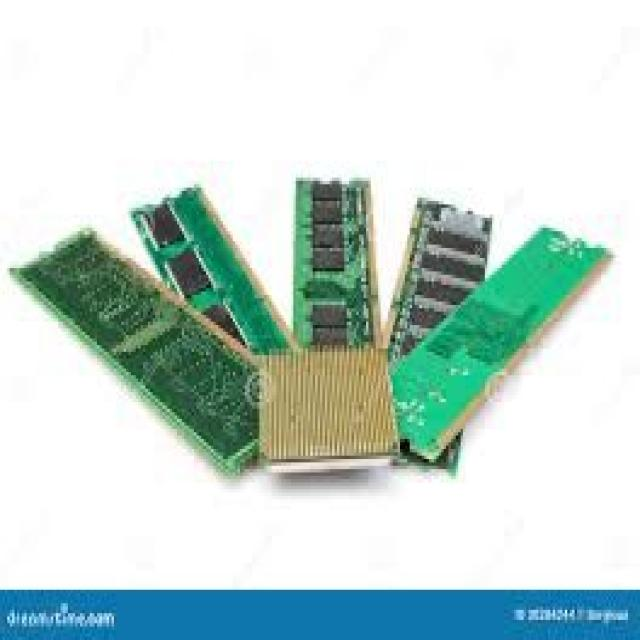Ram: (78, 105, 599, 537)
